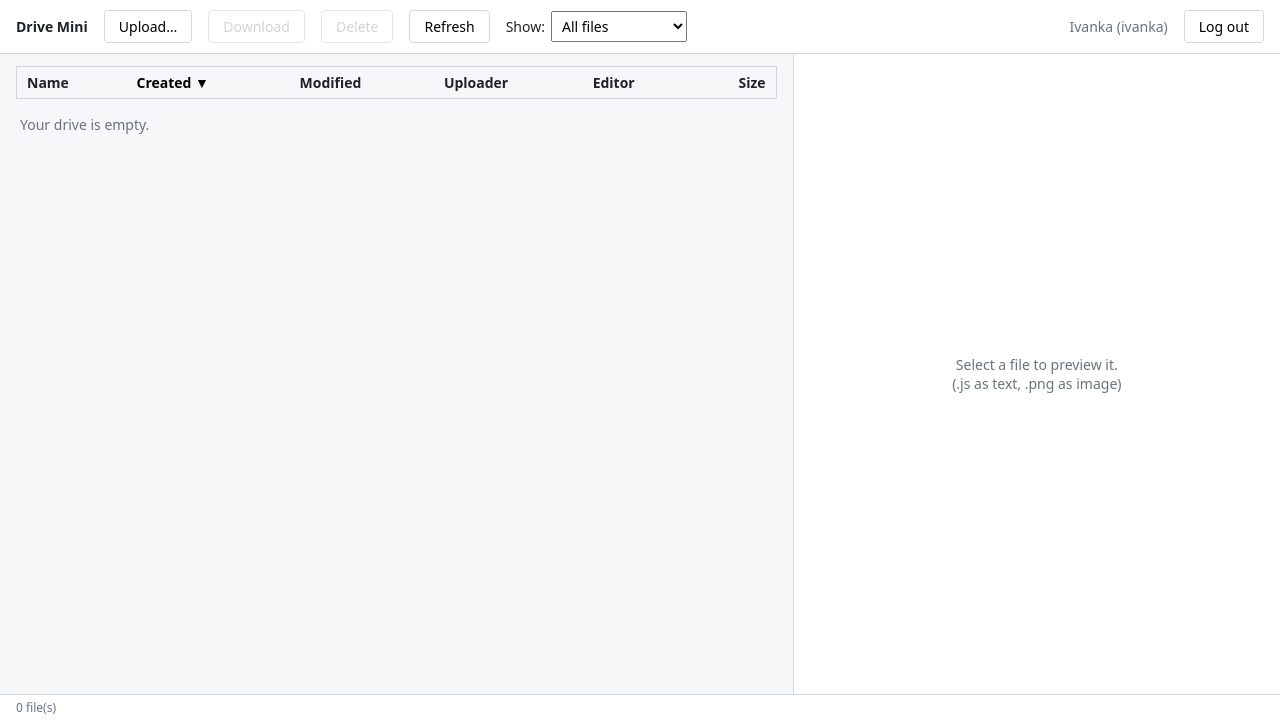
Test case: a reload keeps you logged in, and Log out goes back to the login page
Expected: the text "Ivanka (ivanka)" is shown, x1=1070 y1=17 x2=1168 y2=36
Click the button "Log out" at (1224, 26), box x1=1184 y1=10 x2=1264 y2=43
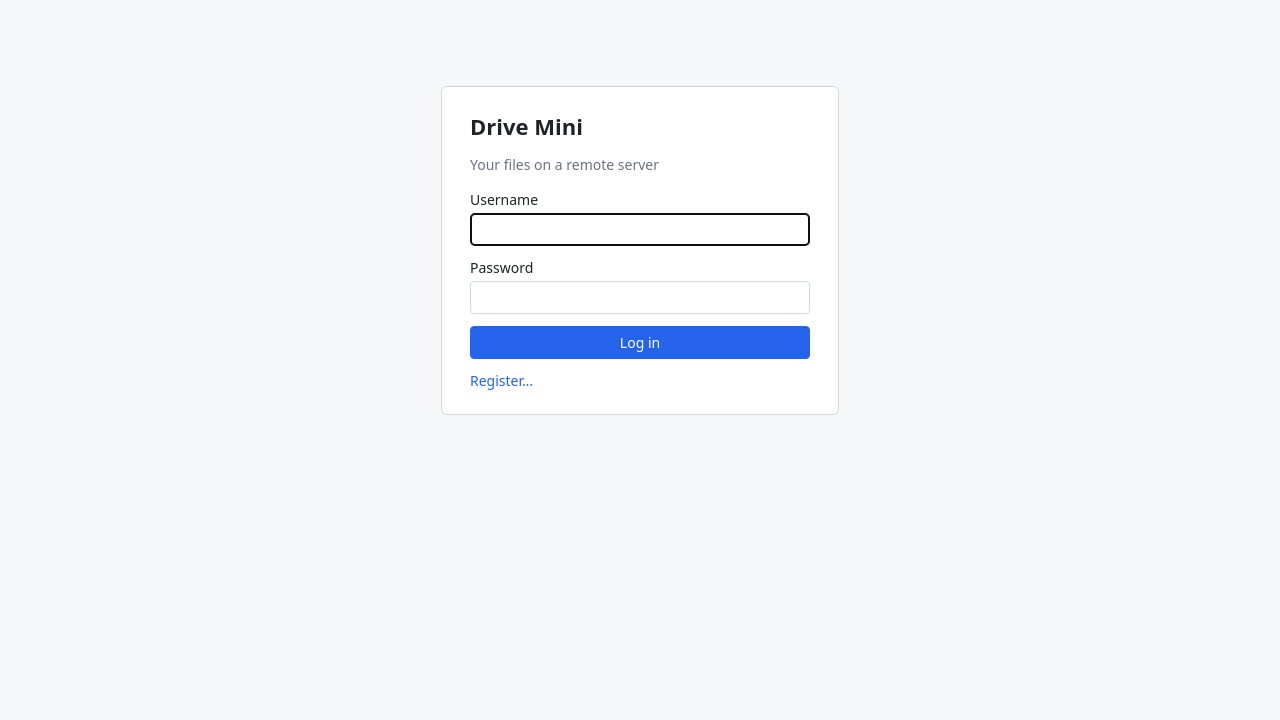
Result: the button "Log in" is shown at x1=470 y1=326 x2=810 y2=359
